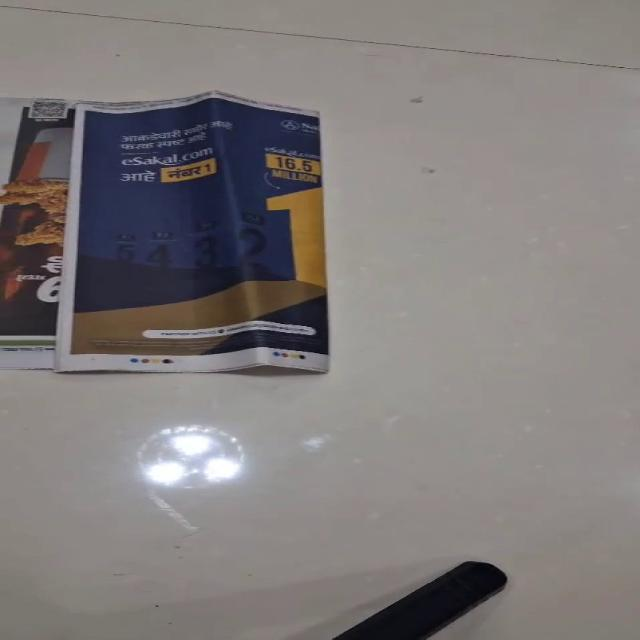paper: (51, 90, 329, 374)
